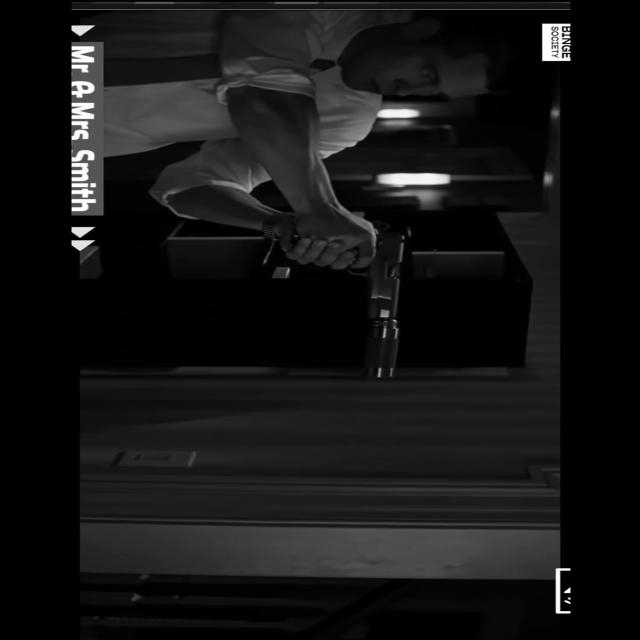weapons: (280, 212, 428, 390)
